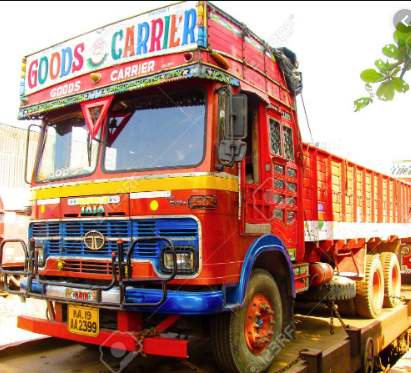truck: (15, 1, 411, 373)
